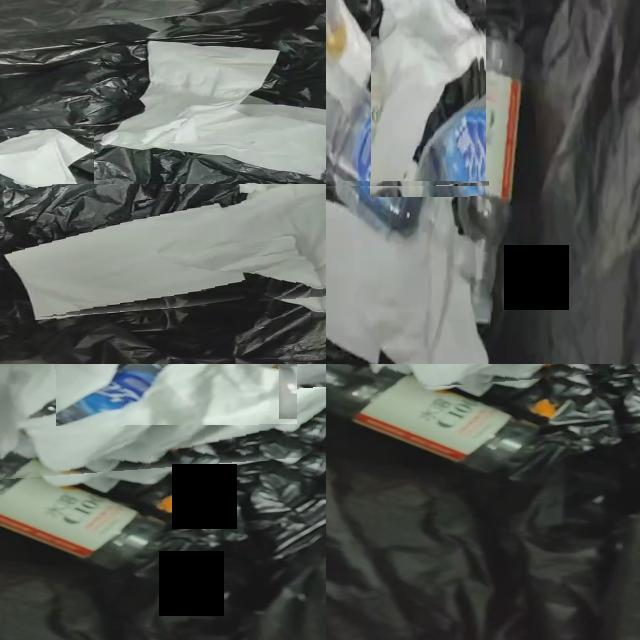bottle: (326, 364, 564, 472), (459, 36, 527, 324), (326, 54, 432, 238), (0, 468, 167, 568), (55, 364, 169, 426), (278, 364, 326, 421)
paper: (5, 184, 326, 318), (0, 364, 326, 477), (102, 42, 326, 177), (326, 181, 489, 364), (326, 199, 489, 364), (371, 0, 483, 198), (0, 129, 93, 190), (340, 0, 374, 85), (432, 162, 454, 201)
